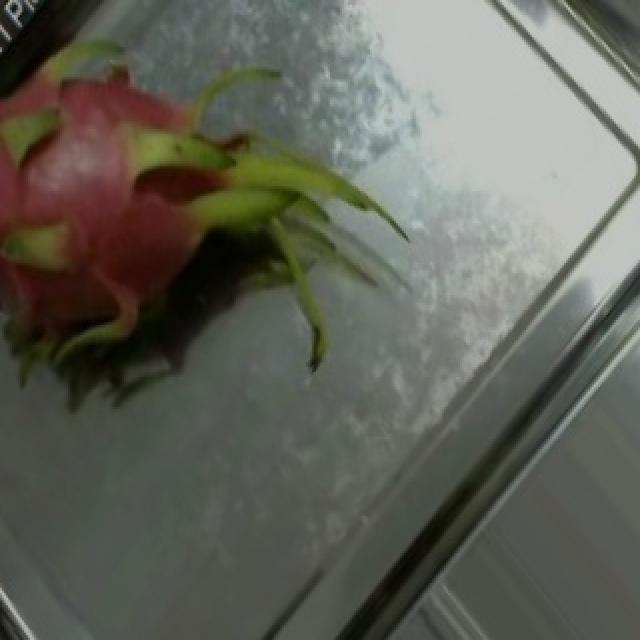fruit: (0, 5, 390, 439)
